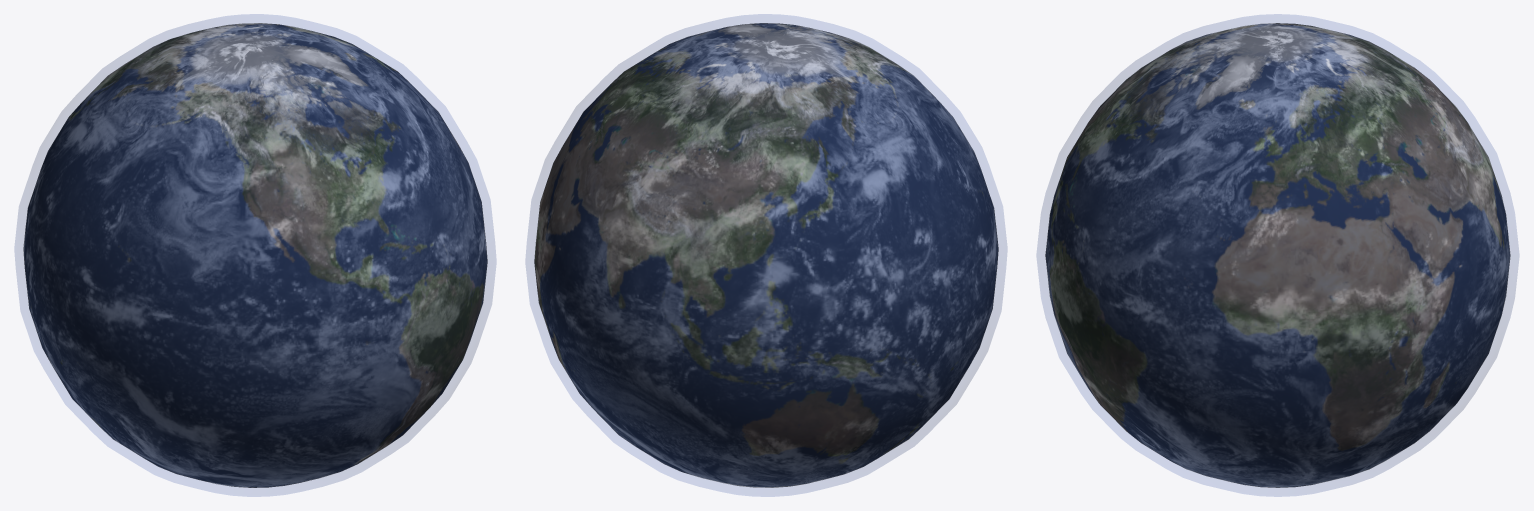
Rendered from earth1.glb.
3 views of the same model, side by side, from view 1: azimuth 30°, elevation 25°; view 2: azimuth 150°, elevation 25°; view 3: azimuth 270°, elevation 25° (orthographic).
Parts seen in each view (by area): view 1: earth_clouds, earth, earth._atmosphere; view 2: earth_clouds, earth, earth._atmosphere; view 3: earth_clouds, earth, earth._atmosphere.
Part boxes in pixels (<box>): earth_clouds: <box>23,23,487,487</box>; earth: <box>24,23,486,487</box>; earth._atmosphere: <box>14,14,496,496</box>; earth_clouds: <box>534,23,998,487</box>; earth: <box>535,23,997,487</box>; earth._atmosphere: <box>525,14,1007,496</box>; earth_clouds: <box>1045,23,1510,487</box>; earth: <box>1046,23,1509,487</box>; earth._atmosphere: <box>1036,14,1519,496</box>.
Size of the model in its own units: 1.3 by 1.3 by 1.3.
3 materials, 2 textured.
